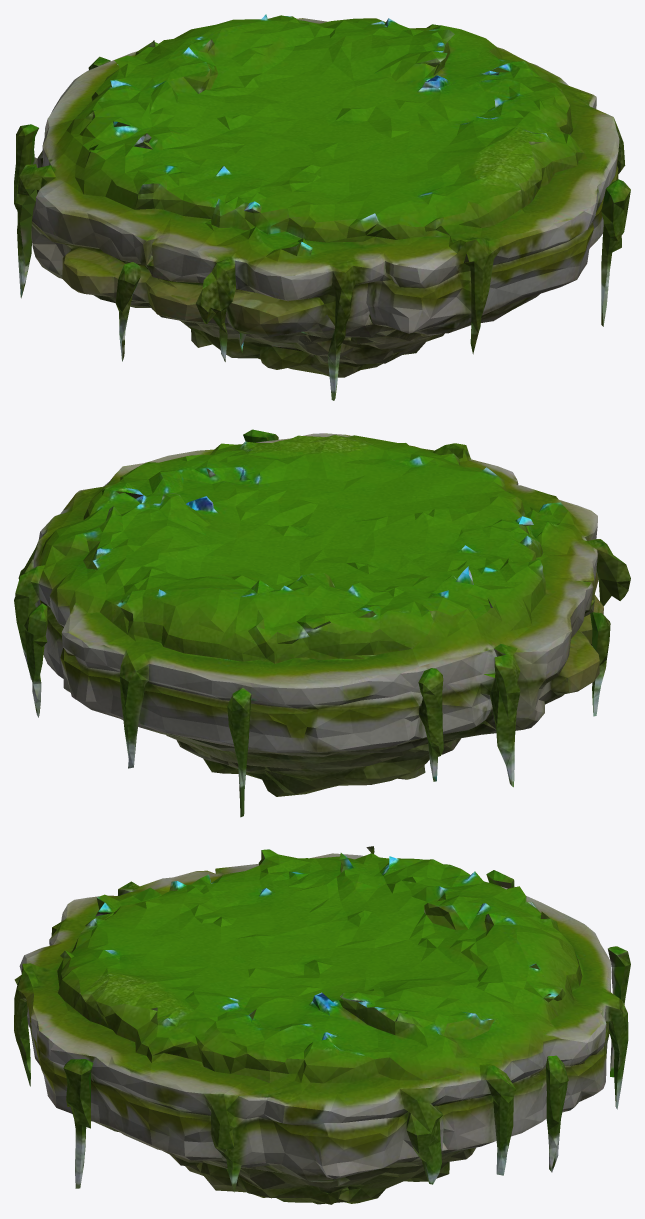
File: jungle_ledge.glb
3 renders of one model, top to bottom at view 1: azimuth 30°, elevation 25°; view 2: azimuth 150°, elevation 25°; view 3: azimuth 270°, elevation 25°, orthographic.
Visible parts, largest first — view 1: tmpk_prewsu.ply; view 2: tmpk_prewsu.ply; view 3: tmpk_prewsu.ply.
Boxes of the visible parts, left/top/right/bottom form: tmpk_prewsu.ply: left=14, top=14, right=630, bottom=400; tmpk_prewsu.ply: left=14, top=429, right=630, bottom=817; tmpk_prewsu.ply: left=14, top=846, right=630, bottom=1204.
Bounding box in the file's own units: 1.98 × 0.9209 × 1.98.
1 material, 1 textured.
